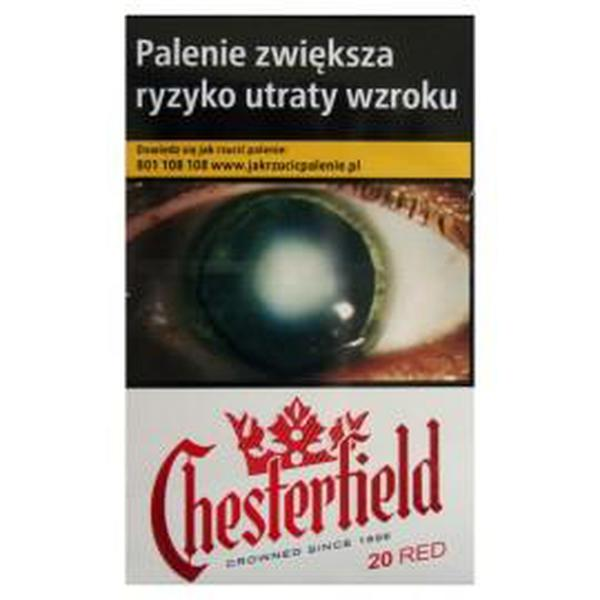chesterfield_red: (125, 16, 475, 584)
